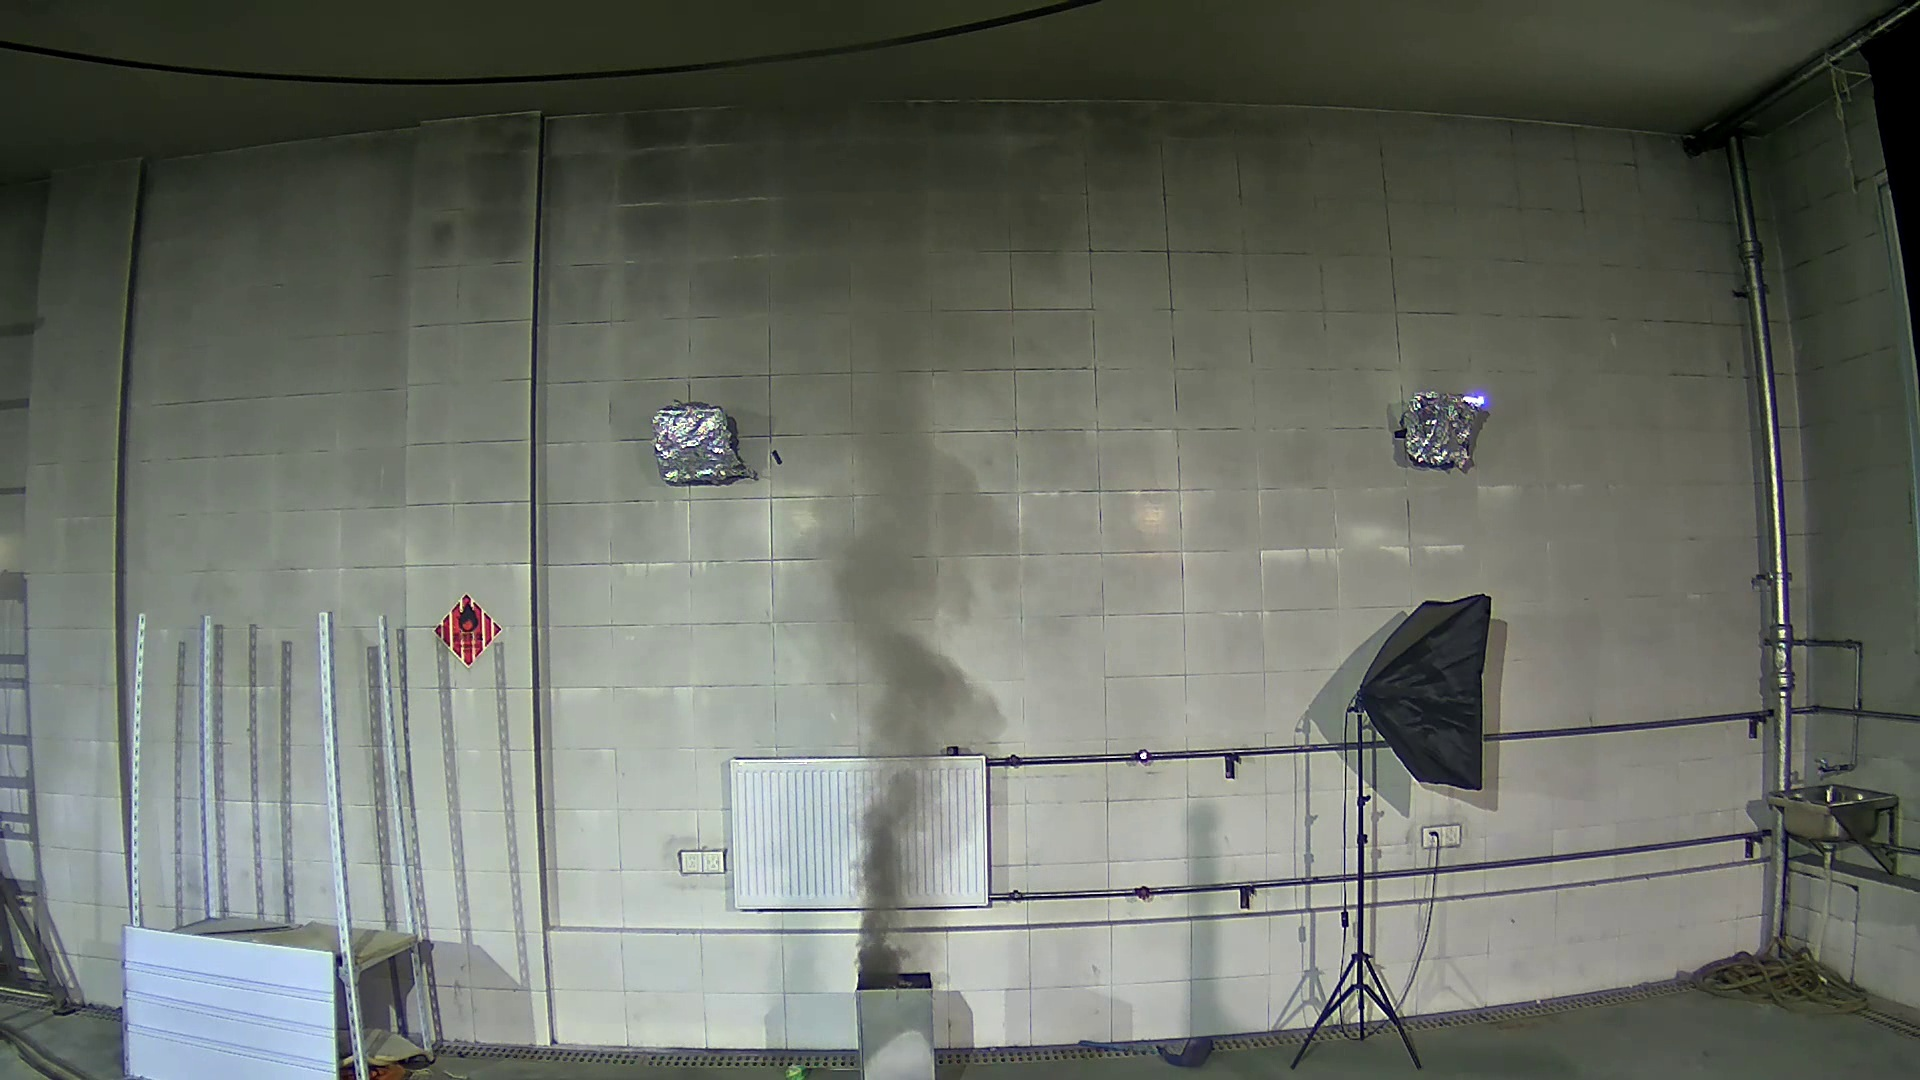smoke: (777, 425, 990, 968)
